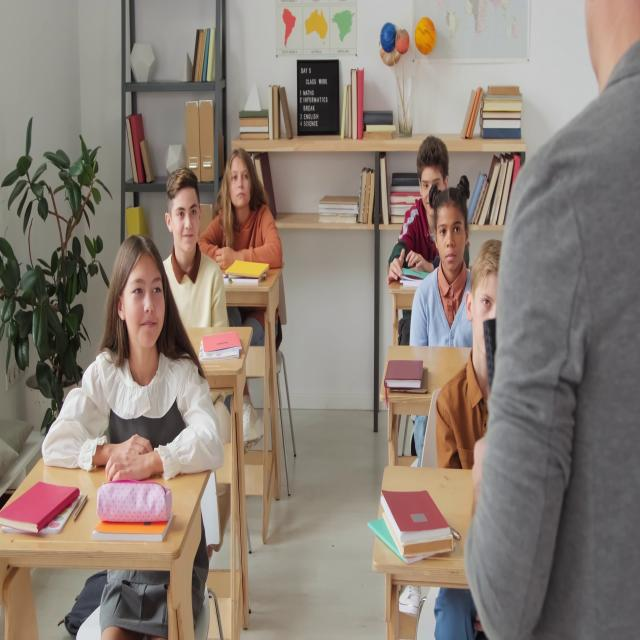listening: (44, 236, 226, 635), (202, 152, 284, 423), (432, 238, 501, 468), (160, 168, 230, 336), (383, 132, 457, 289), (409, 182, 477, 352)
